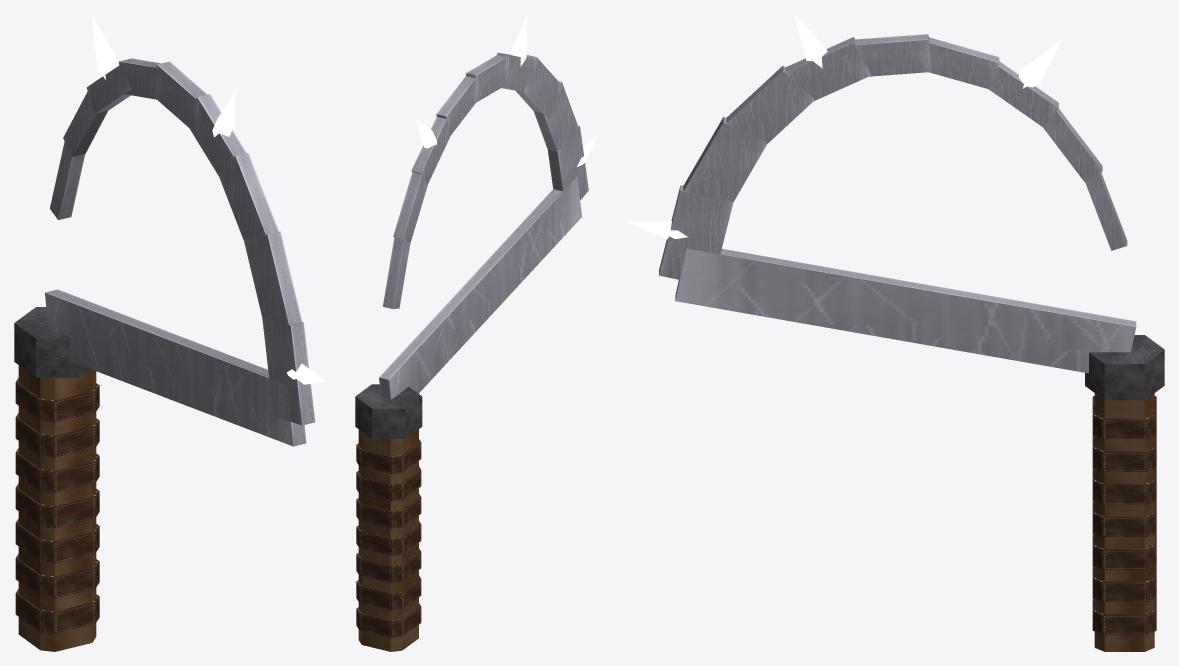
File: Sickle.fbx
The picture shows the model from 3 angles, left to right: view 1: azimuth 30°, elevation 25°; view 2: azimuth 150°, elevation 25°; view 3: azimuth 270°, elevation 25°; orthographic projection. The views are drawn at different scales.
Parts seen in each view (by area): view 1: Blade, Handle, Glow; view 2: Blade, Handle, Glow; view 3: Blade, Handle, Glow.
Part boxes in pixels (x1,y1,x2,y2): Blade: (45, 58, 315, 446); Handle: (14, 307, 99, 651); Glow: (91, 14, 325, 384); Blade: (379, 52, 588, 399); Handle: (355, 384, 422, 651); Glow: (415, 14, 597, 166); Blade: (659, 34, 1136, 373); Handle: (1085, 335, 1164, 651); Glow: (627, 14, 1060, 239).
Size of the model in its own units: 17.32 by 173 by 135.
2 materials, 1 textured.
